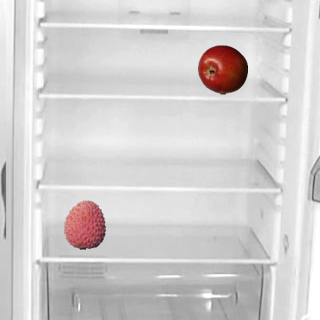Apple Braeburn: (197, 44, 247, 94)
Lychee: (59, 199, 109, 249)
